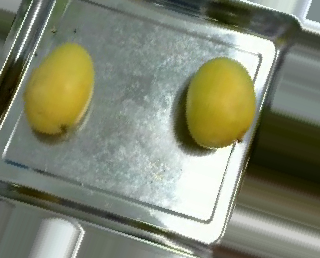Mango: (25, 39, 100, 136), (185, 54, 260, 149)
